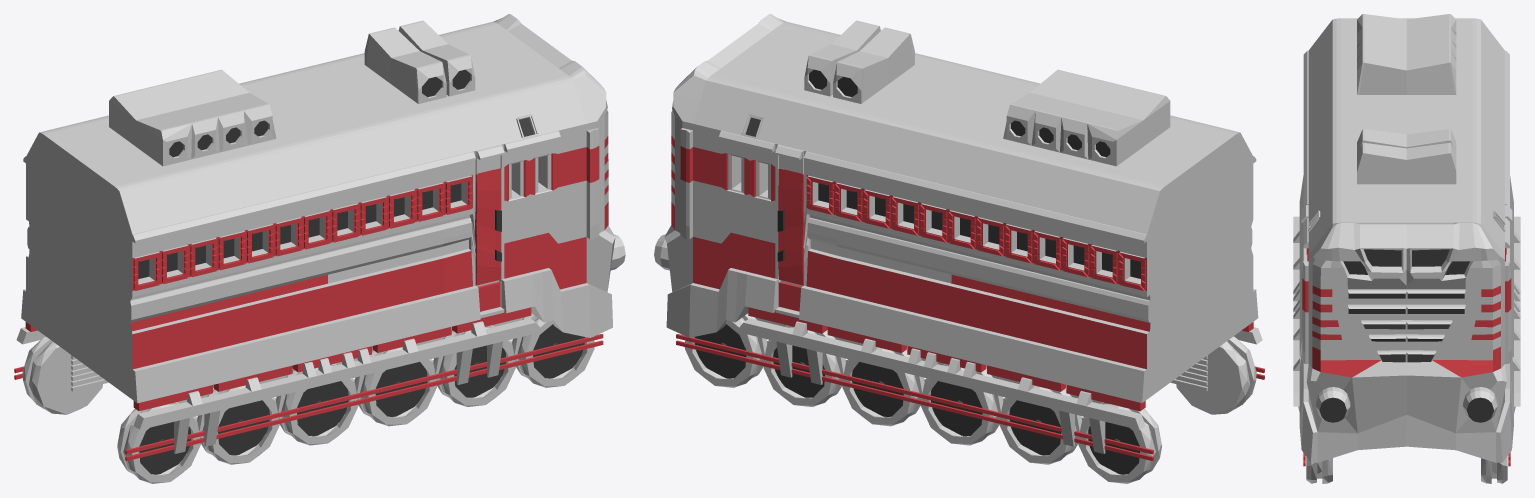
File: train_main.fbx
The picture shows the model from 3 angles, left to right: view 1: azimuth 30°, elevation 25°; view 2: azimuth 150°, elevation 25°; view 3: azimuth 270°, elevation 25°; orthographic projection. The views are drawn at different scales.
Parts seen in each view (by area): view 1: Cube.001, Cube.042, Cube.041, Cylinder, Cube, Cylinder.001, Cube.040, Cylinder.006, Cube.004, Cube.003, Cube.005, Cube.023; view 2: Cube.001, Cube.042, Cube.041, Cylinder.006, Cube.019, Cylinder.007, Cube.040, Cylinder, Cube.021, Cube.020, Cube.022, Cube.007; view 3: Cube.001, Cube.044, Cube.036, Cube.037, Cube.038, Cube.019, Cube, Cube.045, Cube.039, Cylinder.006, Cylinder, Cube.041.
Part boxes in pixels (<box>): Cube.001: <box>21,14,625,403</box>; Cube.042: <box>130,232,586,369</box>; Cube.041: <box>132,146,599,311</box>; Cylinder: <box>117,313,594,483</box>; Cube: <box>133,318,542,453</box>; Cylinder.001: <box>139,324,584,474</box>; Cube.040: <box>138,69,533,278</box>; Cylinder.006: <box>22,336,103,414</box>; Cube.004: <box>133,307,531,411</box>; Cube.003: <box>125,340,603,460</box>; Cube.005: <box>125,334,603,454</box>; Cube.023: <box>71,355,108,391</box>; Cube.001: <box>654,14,1258,402</box>; Cube.042: <box>693,232,1150,369</box>; Cube.041: <box>680,146,1146,311</box>; Cylinder.006: <box>684,313,1161,483</box>; Cube.019: <box>736,318,1145,453</box>; Cylinder.007: <box>694,324,1139,474</box>; Cube.040: <box>745,69,1140,278</box>; Cylinder: <box>1175,336,1256,414</box>; Cube.021: <box>748,307,1145,411</box>; Cube.020: <box>676,340,1153,460</box>; Cube.022: <box>676,334,1153,454</box>; Cube.007: <box>1170,355,1207,391</box>; Cube.001: <box>1299,14,1513,462</box>; Cube.044: <box>1352,360,1461,433</box>; Cube.036: <box>1312,285,1500,377</box>; Cube.037: <box>1349,293,1464,362</box>; Cube.038: <box>1343,249,1469,274</box>; Cube.019: <box>1512,216,1520,413</box>; Cube: <box>1293,216,1300,411</box>; Cube.045: <box>1319,397,1493,422</box>; Cube.039: <box>1320,289,1492,339</box>; Cylinder.006: <box>1481,456,1507,483</box>; Cylinder: <box>1306,457,1332,483</box>; Cube.041: <box>1302,248,1511,312</box>.
Bounding box in the file's own units: 600 × 368 × 252.
